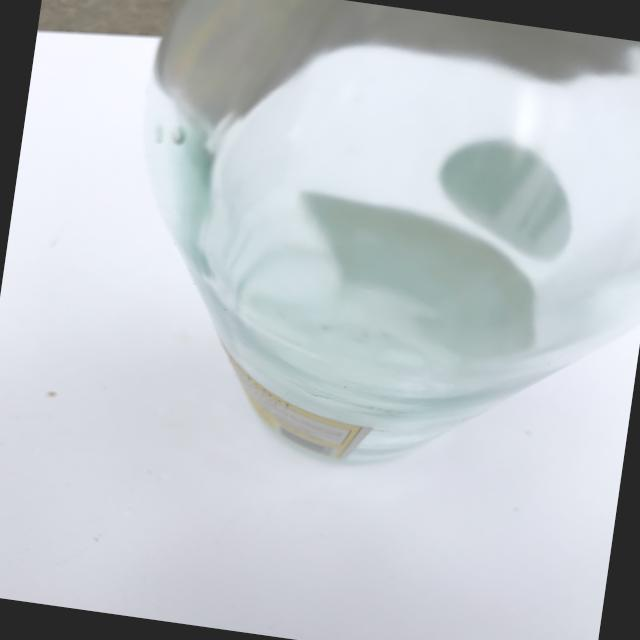Glass: (87, 0, 640, 523)
